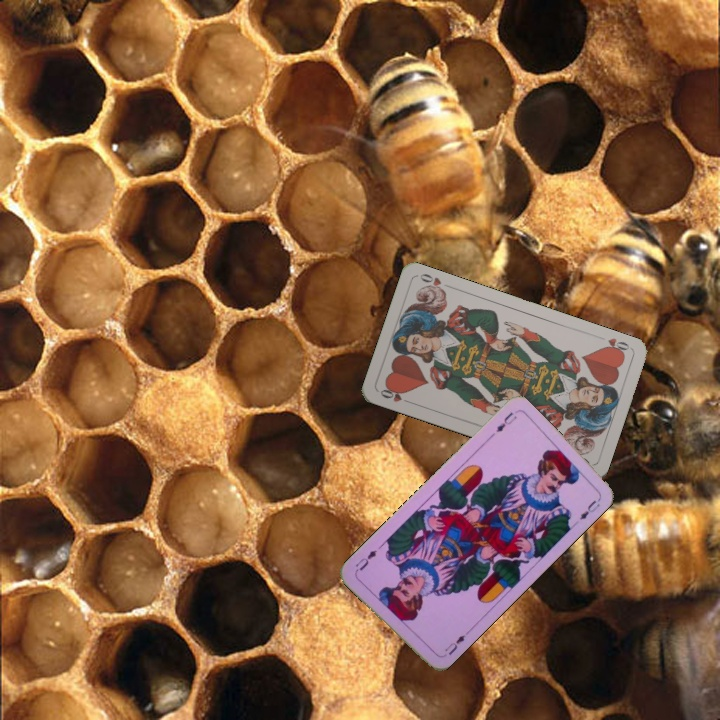EU: (438, 628, 471, 660), (492, 408, 520, 435)
HO: (594, 332, 632, 357), (376, 383, 415, 407)
